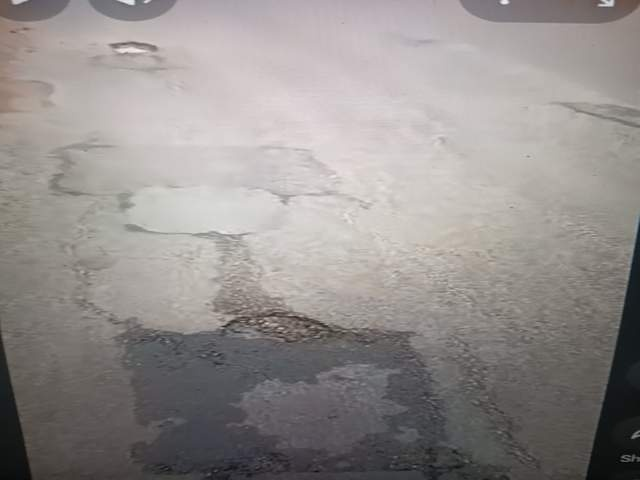pothole: (109, 403, 320, 480)
